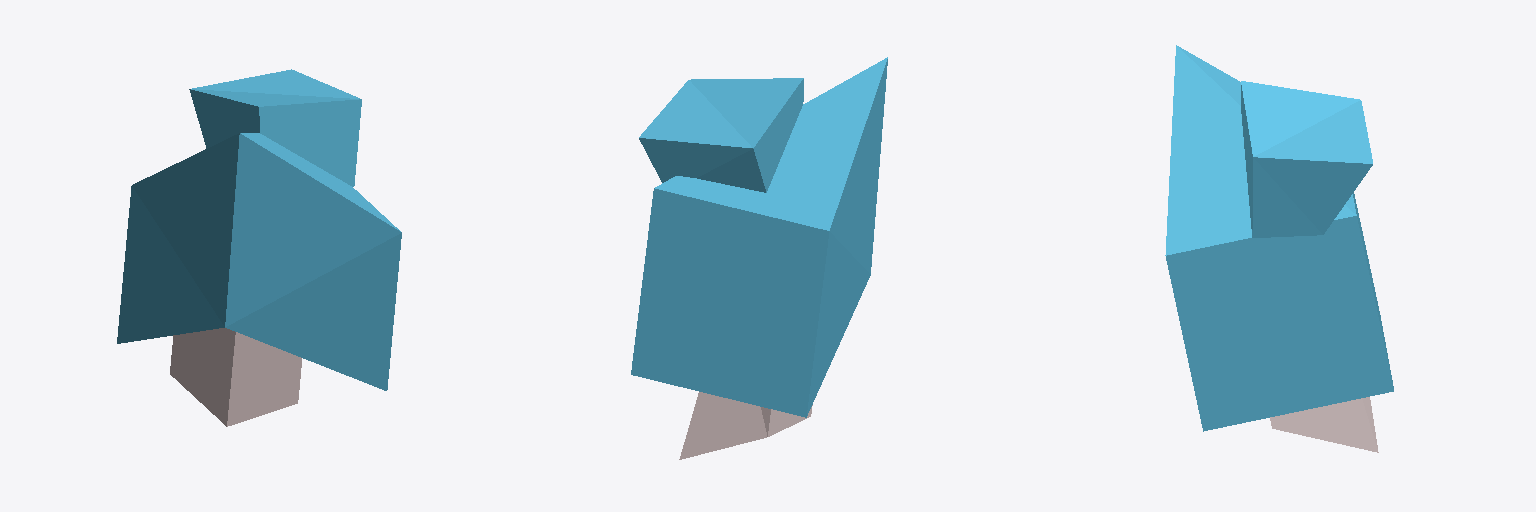
The model's file is footUR.obj.
3 renders of one model, left to right at view 1: azimuth 30°, elevation 25°; view 2: azimuth 150°, elevation 25°; view 3: azimuth 270°, elevation 25°, orthographic.
Visible parts, largest first — view 1: polySurface44; view 2: polySurface44; view 3: polySurface44.
Part boxes in pixels (x1,y1,x2,y2): polySurface44: (117, 69, 401, 426); polySurface44: (631, 57, 887, 459); polySurface44: (1165, 45, 1393, 452).
Size of the model in its own units: 3.27 by 5.97 by 3.49.